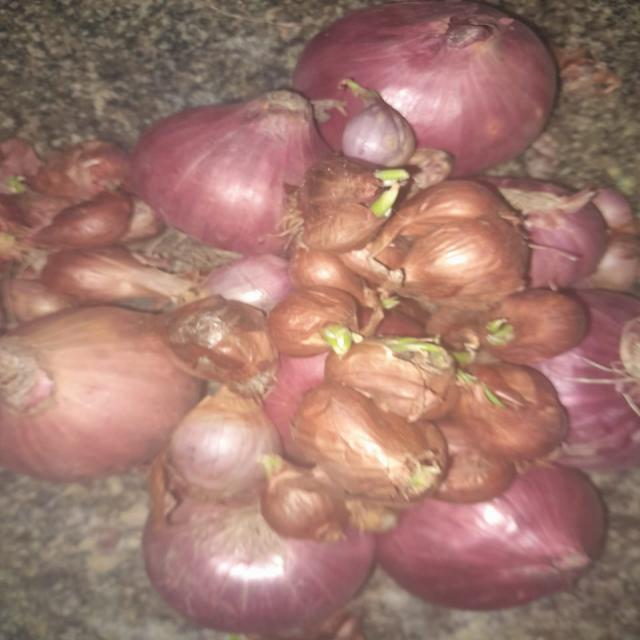sprouting: (324, 324, 458, 367), (368, 172, 406, 216), (481, 323, 519, 353)
